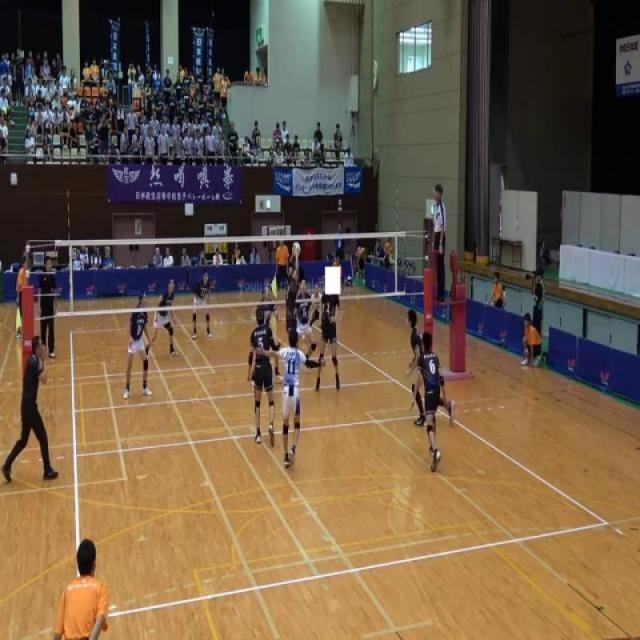volleyball: (292, 242, 300, 258)
